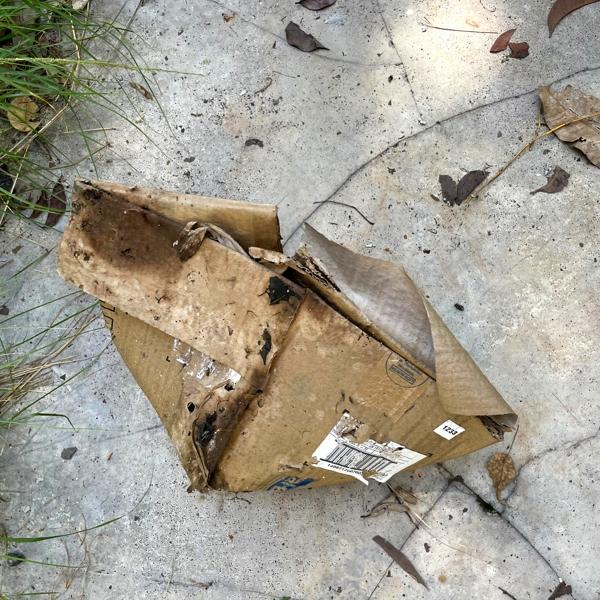Organik: (41, 144, 524, 504)
